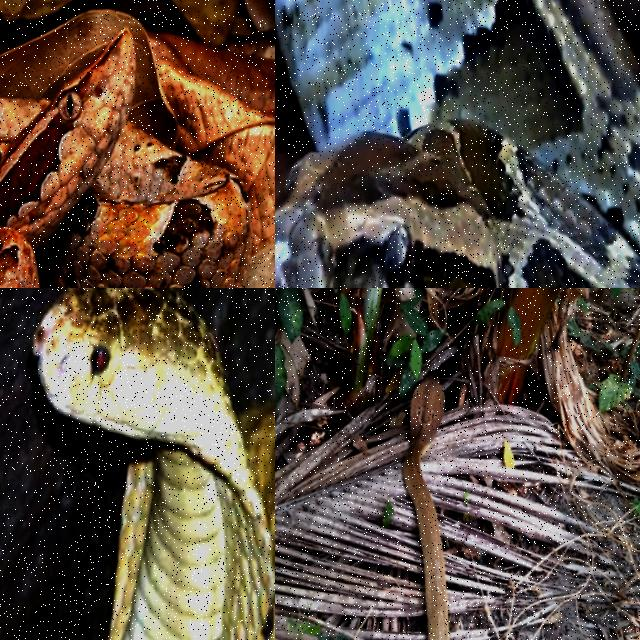Calloselasma rhodostoma: (0, 30, 251, 287)
Naja kaouthia: (33, 288, 274, 639)
Naja siamensis: (402, 377, 450, 639)
Python bivittatus: (275, 0, 639, 287)
